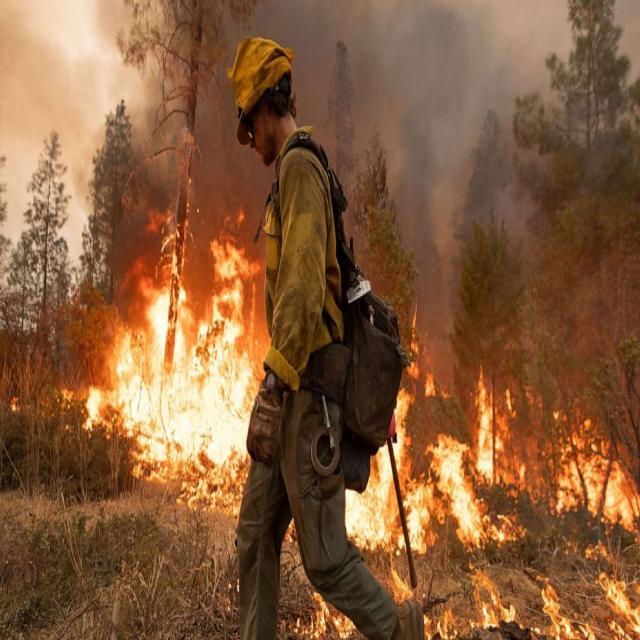Fire: (346, 301, 640, 640), (6, 207, 265, 521), (288, 593, 361, 639)
